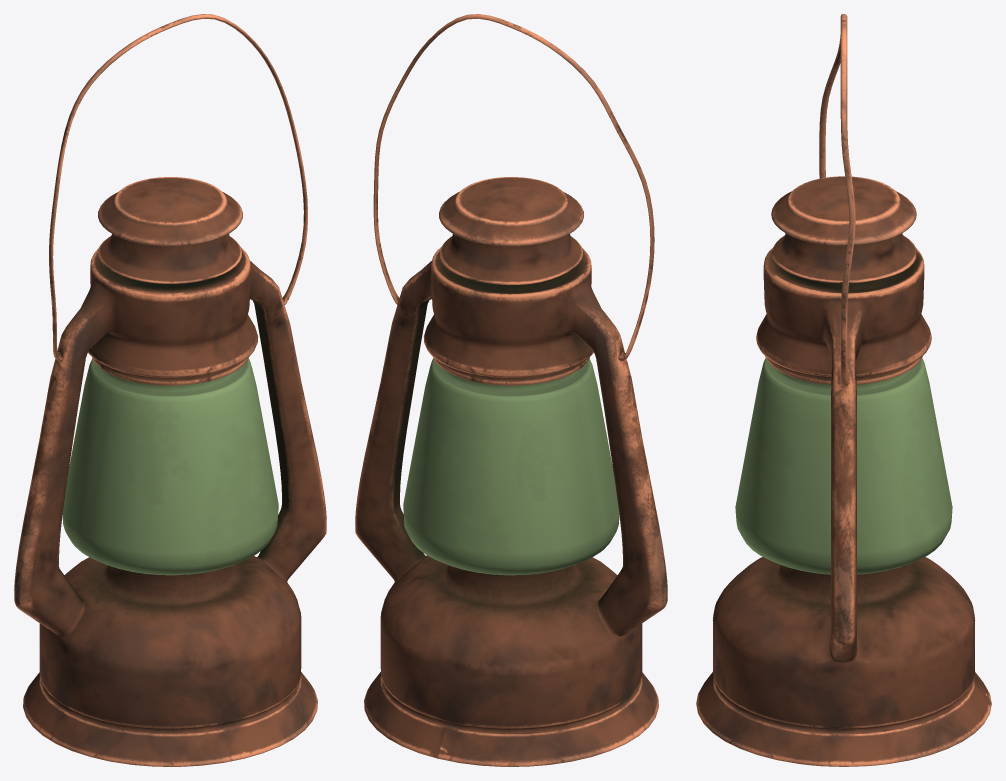
File: lampada_mao.obj
The picture shows the model from 3 angles, left to right: view 1: azimuth 30°, elevation 25°; view 2: azimuth 150°, elevation 25°; view 3: azimuth 270°, elevation 25°; orthographic projection.
Visible parts, largest first — view 1: Lamp_Low_Poly_OBJ_UV:pCylinder1_lambert1_0; view 2: Lamp_Low_Poly_OBJ_UV:pCylinder1_lambert1_0; view 3: Lamp_Low_Poly_OBJ_UV:pCylinder1_lambert1_0.
Boxes of the visible parts, x1,y1,x2,y2 form: Lamp_Low_Poly_OBJ_UV:pCylinder1_lambert1_0: (14, 14, 326, 766); Lamp_Low_Poly_OBJ_UV:pCylinder1_lambert1_0: (355, 14, 667, 766); Lamp_Low_Poly_OBJ_UV:pCylinder1_lambert1_0: (696, 14, 991, 766).
Size of the model in its own units: 4.59 by 9.69 by 3.8.
Materials: 1 (1 with a texture image).
